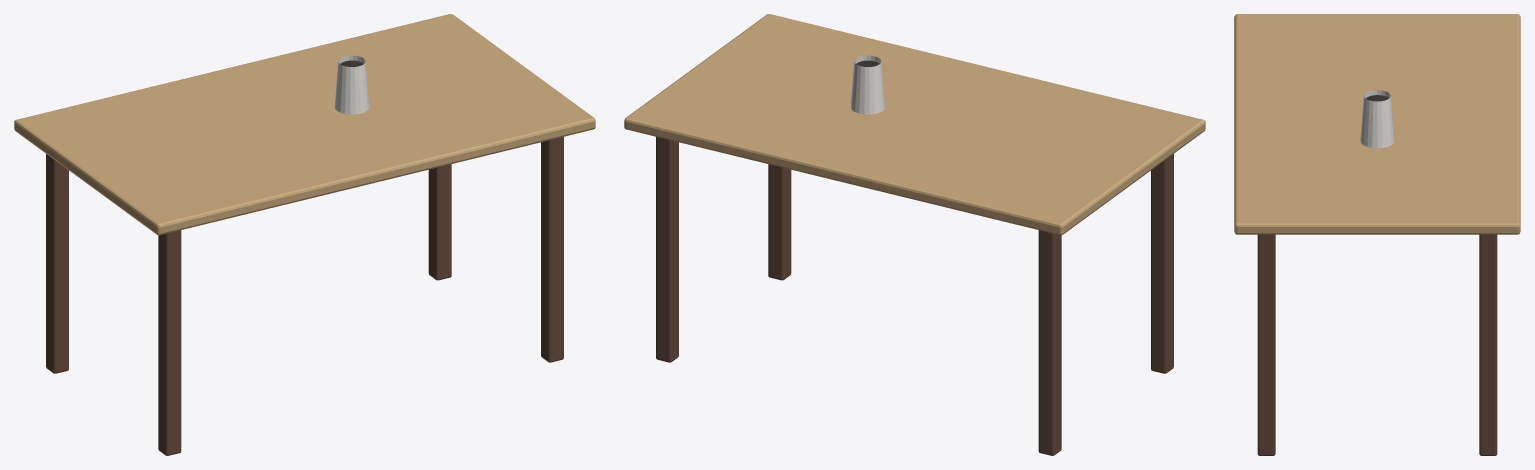
The model's file is diningTable.glb.
The picture shows the model from 3 angles, left to right: view 1: azimuth 30°, elevation 25°; view 2: azimuth 150°, elevation 25°; view 3: azimuth 270°, elevation 25°; orthographic projection.
Visible parts, largest first — view 1: top.001, leg-1-1.003, leg1-1.003, leg-11.003, leg11.003, vaseWall; view 2: top.001, leg-11.003, leg11.003, leg-1-1.003, leg1-1.003, vaseWall; view 3: top.001, leg1-1.003, leg11.003, vaseWall.
Part boxes in pixels (box(x1,y1,x2,y2)): top.001: box(14, 14, 595, 235); leg-1-1.003: box(158, 230, 181, 455); leg1-1.003: box(541, 137, 563, 362); leg-11.003: box(46, 154, 68, 373); leg11.003: box(428, 164, 451, 280); vaseWall: box(334, 55, 369, 114); top.001: box(624, 14, 1205, 235); leg-11.003: box(1038, 230, 1061, 455); leg11.003: box(656, 137, 678, 362); leg-1-1.003: box(1151, 154, 1173, 373); leg1-1.003: box(768, 164, 791, 280); vaseWall: box(850, 55, 885, 114); top.001: box(1234, 14, 1520, 234); leg1-1.003: box(1257, 234, 1275, 455); leg11.003: box(1479, 234, 1497, 455); vaseWall: box(1360, 90, 1394, 148).
Size of the model in its own units: 1.4 by 0.888 by 0.8.
